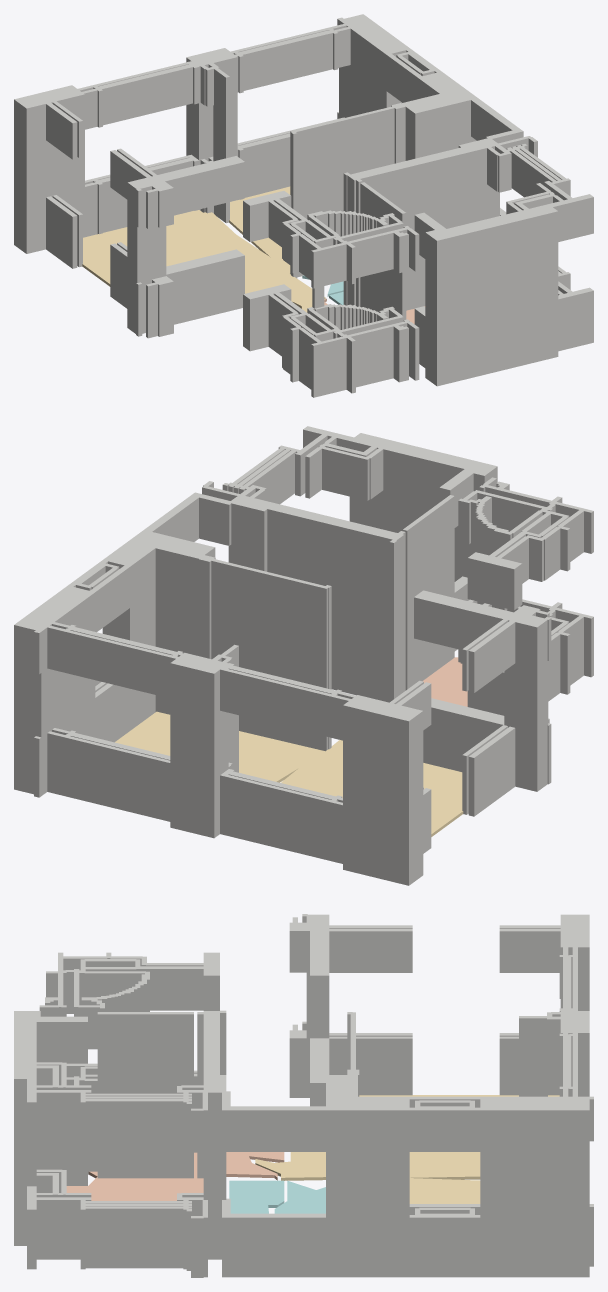
The picture shows the model from 3 angles, top to bottom: view 1: azimuth 30°, elevation 25°; view 2: azimuth 150°, elevation 25°; view 3: azimuth 270°, elevation 25°; orthographic projection. The views are drawn at different scales.
Parts seen in each view (by area): view 1: walls, room:living:0; view 2: walls, room:living:0, room:kitchen:1; view 3: walls, room:living:0, room:kitchen:1, room:bath:3, room:bath:2.
Part boxes in pixels (x1,y1,x2,y2): walls: [14, 14, 593, 397]; room:living:0: [82, 186, 325, 312]; walls: [14, 426, 593, 885]; room:living:0: [115, 711, 463, 836]; room:kitchen:1: [423, 657, 467, 706]; walls: [14, 914, 593, 1277]; room:living:0: [255, 1095, 559, 1203]; room:kitchen:1: [66, 1152, 284, 1200]; room:bath:3: [229, 1180, 284, 1213]; room:bath:2: [274, 1180, 325, 1213].
Size of the model in its own units: 7.06 by 2.8 by 8.81.
